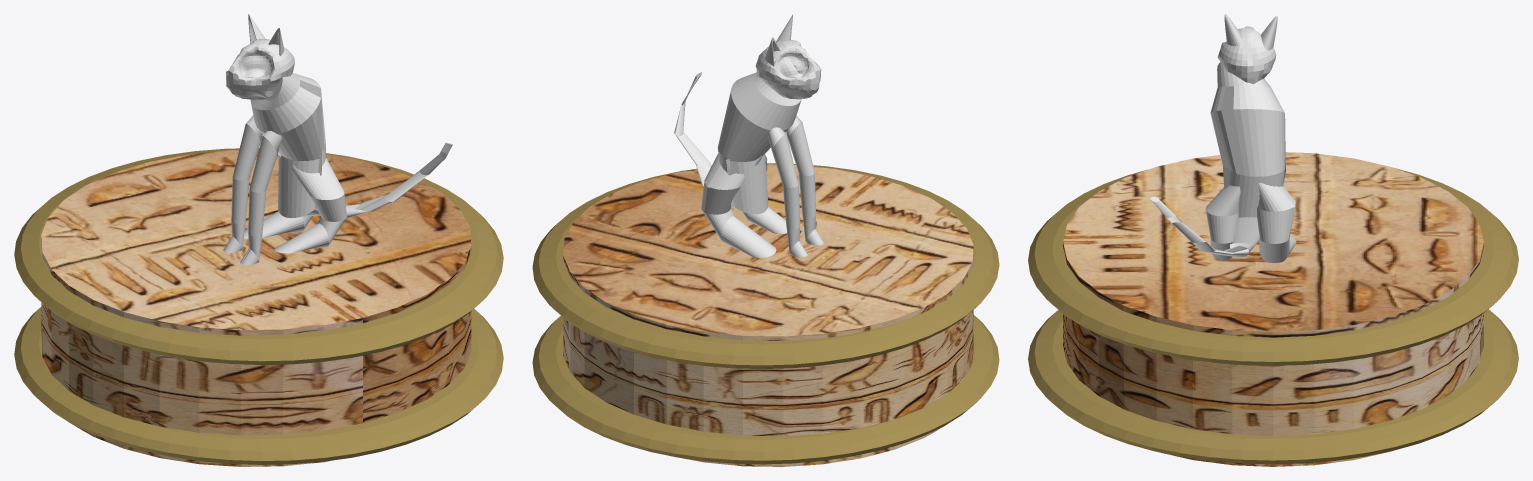
Rendered from bast_PleasKillMe.fbx.
3 views of the same model, side by side, from view 1: azimuth 30°, elevation 25°; view 2: azimuth 150°, elevation 25°; view 3: azimuth 270°, elevation 25° (orthographic). The views are drawn at different scales.
Parts seen in each view (by area): view 1: Cylinder.006, Sphere; view 2: Cylinder.006, Sphere; view 3: Cylinder.006, Sphere.
Part boxes in pixels (bbox=[...]): Cylinder.006: bbox=[14, 148, 503, 466]; Sphere: bbox=[223, 14, 452, 265]; Cylinder.006: bbox=[532, 163, 999, 466]; Sphere: bbox=[674, 14, 823, 257]; Cylinder.006: bbox=[1028, 152, 1518, 466]; Sphere: bbox=[1149, 14, 1296, 262].
Bounding box in the file's own units: 157 × 130 × 160.
